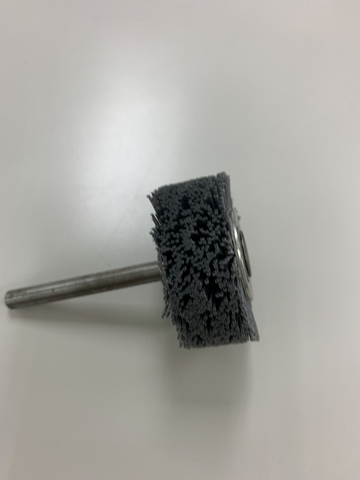Wheel Brush: (4, 174, 266, 348), (44, 173, 262, 343)
